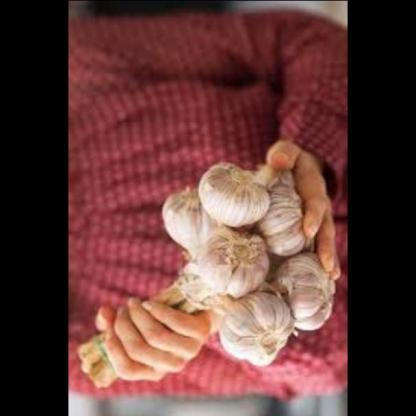garlic: (148, 139, 330, 362)
